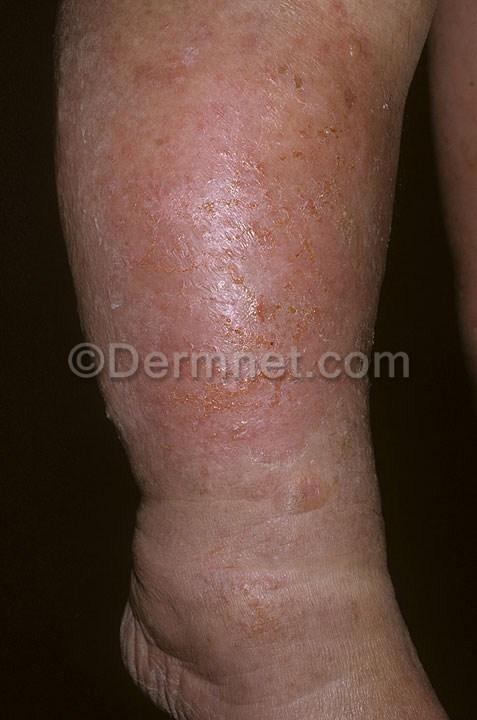Eczema: (104, 94, 356, 356), (140, 376, 348, 469), (323, 0, 386, 73), (264, 472, 342, 518)
